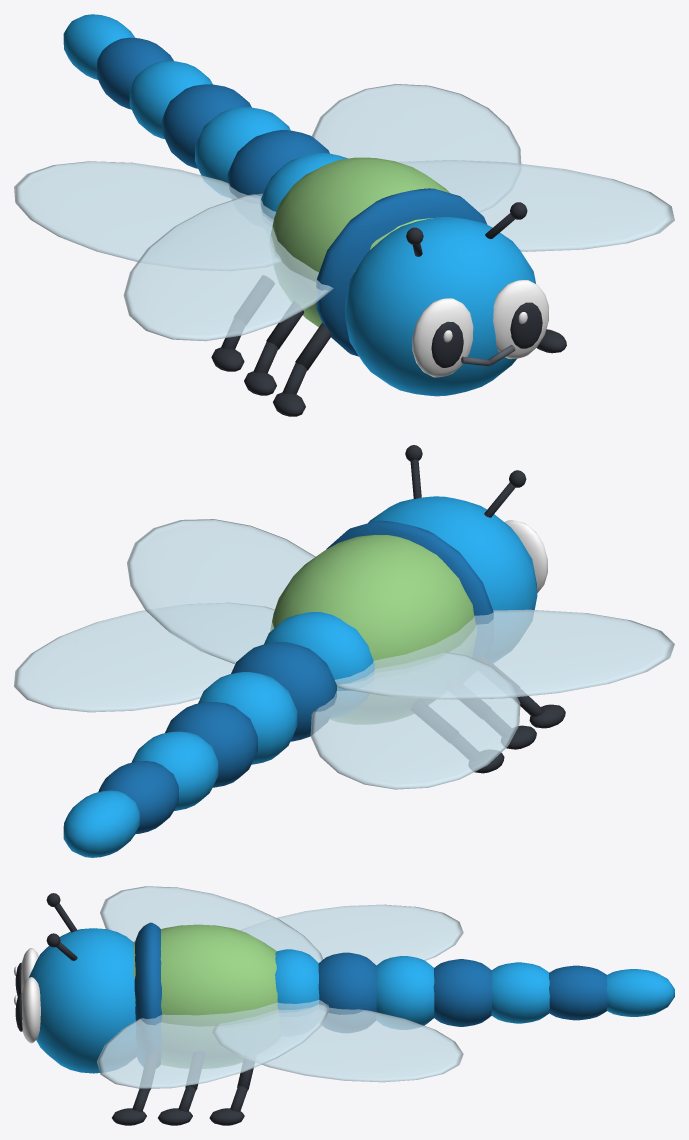
The model's file is Dragonfly.glb.
3 views of the same model, one above another, from view 1: azimuth 30°, elevation 25°; view 2: azimuth 150°, elevation 25°; view 3: azimuth 270°, elevation 25° (orthographic). The views are drawn at different scales.
Visible parts, largest first — view 1: Dragonfly_Wing_3, Dragonfly_Head, Dragonfly_Wing_1, Dragonfly_Wing_4, Dragonfly_Wing_2, Dragonfly_Thorax, Dragonfly_Collar, Dragonfly_Abdomen_3, Dragonfly_Abdomen_2, Dragonfly_Abdomen_4, Dragonfly_Abdomen_5, Dragonfly_Abdomen_6 (+12 smaller); view 2: Dragonfly_Wing_3, Dragonfly_Wing_1, Dragonfly_Wing_4, Dragonfly_Thorax, Dragonfly_Wing_2, Dragonfly_Head, Dragonfly_Abdomen_2, Dragonfly_Abdomen_1, Dragonfly_Abdomen_3, Dragonfly_Abdomen_4, Dragonfly_Abdomen_7, Dragonfly_Collar (+4 smaller); view 3: Dragonfly_Wing_4, Dragonfly_Thorax, Dragonfly_Wing_2, Dragonfly_Head, Dragonfly_Wing_3, Dragonfly_Wing_1, Dragonfly_Abdomen_2, Dragonfly_Abdomen_3, Dragonfly_Abdomen_4, Dragonfly_Collar, Dragonfly_Abdomen_5, Dragonfly_Abdomen_6 (+9 smaller).
Part boxes in pixels (bbox=[...]): Dragonfly_Wing_3: bbox=[14, 161, 281, 270]; Dragonfly_Head: bbox=[345, 217, 535, 396]; Dragonfly_Wing_1: bbox=[123, 193, 333, 341]; Dragonfly_Wing_4: bbox=[311, 84, 521, 212]; Dragonfly_Wing_2: bbox=[398, 160, 674, 251]; Dragonfly_Thorax: bbox=[270, 157, 449, 327]; Dragonfly_Collar: bbox=[316, 188, 487, 356]; Dragonfly_Abdomen_3: bbox=[195, 107, 290, 197]; Dragonfly_Abdomen_2: bbox=[227, 130, 329, 199]; Dragonfly_Abdomen_4: bbox=[162, 84, 251, 168]; Dragonfly_Abdomen_5: bbox=[129, 61, 212, 138]; Dragonfly_Abdomen_6: bbox=[97, 37, 173, 109]; Dragonfly_Wing_3: bbox=[310, 652, 520, 789]; Dragonfly_Wing_1: bbox=[335, 609, 674, 699]; Dragonfly_Wing_4: bbox=[14, 603, 274, 712]; Dragonfly_Thorax: bbox=[270, 534, 476, 724]; Dragonfly_Wing_2: bbox=[127, 519, 315, 663]; Dragonfly_Head: bbox=[368, 496, 537, 662]; Dragonfly_Abdomen_2: bbox=[231, 642, 336, 741]; Dragonfly_Abdomen_1: bbox=[264, 612, 374, 717]; Dragonfly_Abdomen_3: bbox=[198, 672, 297, 764]; Dragonfly_Abdomen_4: bbox=[165, 702, 257, 787]; Dragonfly_Abdomen_7: bbox=[63, 790, 139, 857]; Dragonfly_Collar: bbox=[326, 520, 493, 658]; Dragonfly_Wing_4: bbox=[212, 1007, 463, 1082]; Dragonfly_Thorax: bbox=[133, 924, 277, 1068]; Dragonfly_Wing_2: bbox=[97, 1000, 329, 1088]; Dragonfly_Head: bbox=[29, 928, 136, 1073]; Dragonfly_Wing_3: bbox=[240, 904, 463, 965]; Dragonfly_Wing_1: bbox=[100, 886, 323, 962]; Dragonfly_Abdomen_2: bbox=[318, 952, 376, 1032]; Dragonfly_Abdomen_3: bbox=[376, 956, 434, 1029]; Dragonfly_Abdomen_4: bbox=[433, 959, 491, 1026]; Dragonfly_Collar: bbox=[134, 922, 162, 1067]; Dragonfly_Abdomen_5: bbox=[491, 962, 549, 1023]; Dragonfly_Abdomen_6: bbox=[549, 965, 607, 1020].
Size of the model in its own units: 3.33 by 1.23 by 4.6.
